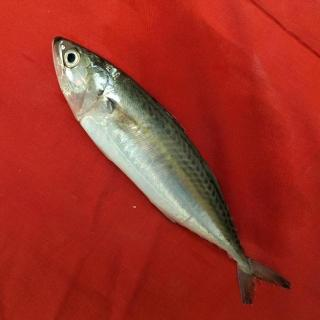Ikan: (46, 23, 298, 315)
